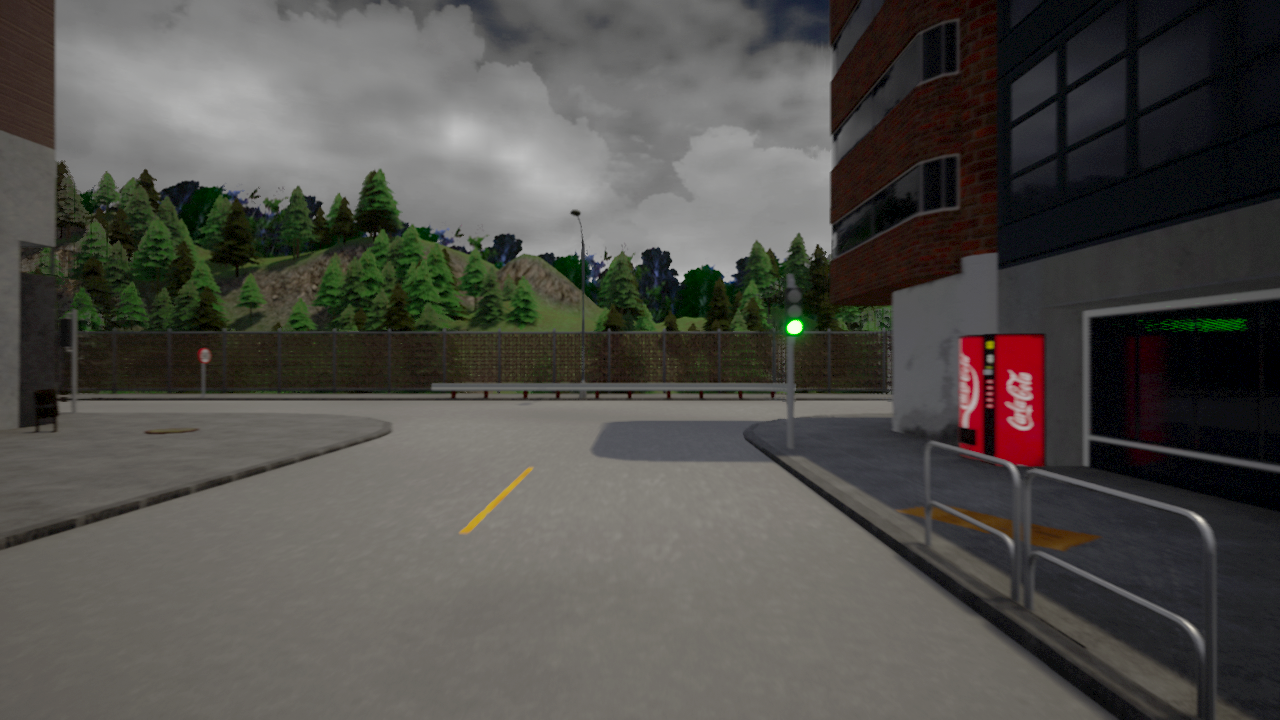green: (783, 287, 805, 340)
